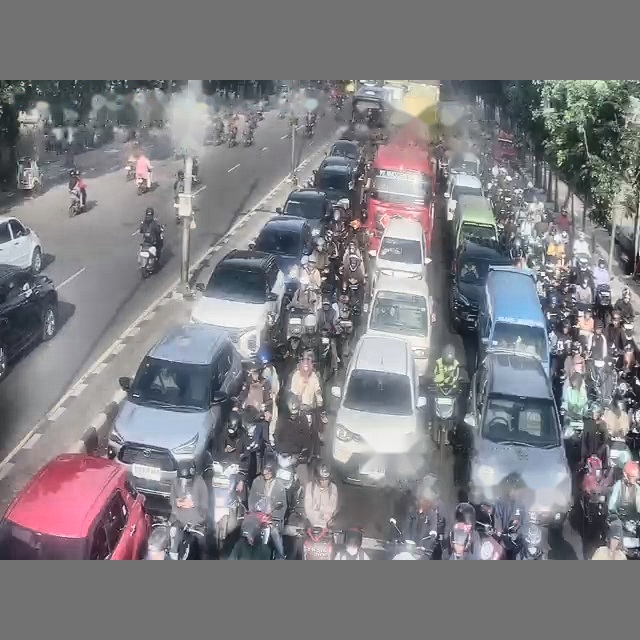Mobil: (107, 324, 243, 496), (464, 351, 571, 524), (0, 454, 150, 559), (330, 334, 426, 485), (191, 250, 285, 357), (365, 275, 434, 379), (0, 264, 57, 380), (449, 240, 511, 330), (249, 215, 313, 296), (369, 217, 430, 287), (276, 188, 331, 235), (0, 216, 42, 273), (313, 163, 355, 207), (444, 174, 484, 220), (326, 140, 364, 174), (327, 139, 363, 169), (320, 156, 358, 177)
Motor: (211, 461, 245, 550), (177, 523, 205, 559), (138, 236, 158, 278), (69, 189, 83, 217), (136, 176, 151, 195), (227, 127, 236, 147), (125, 162, 134, 181)
